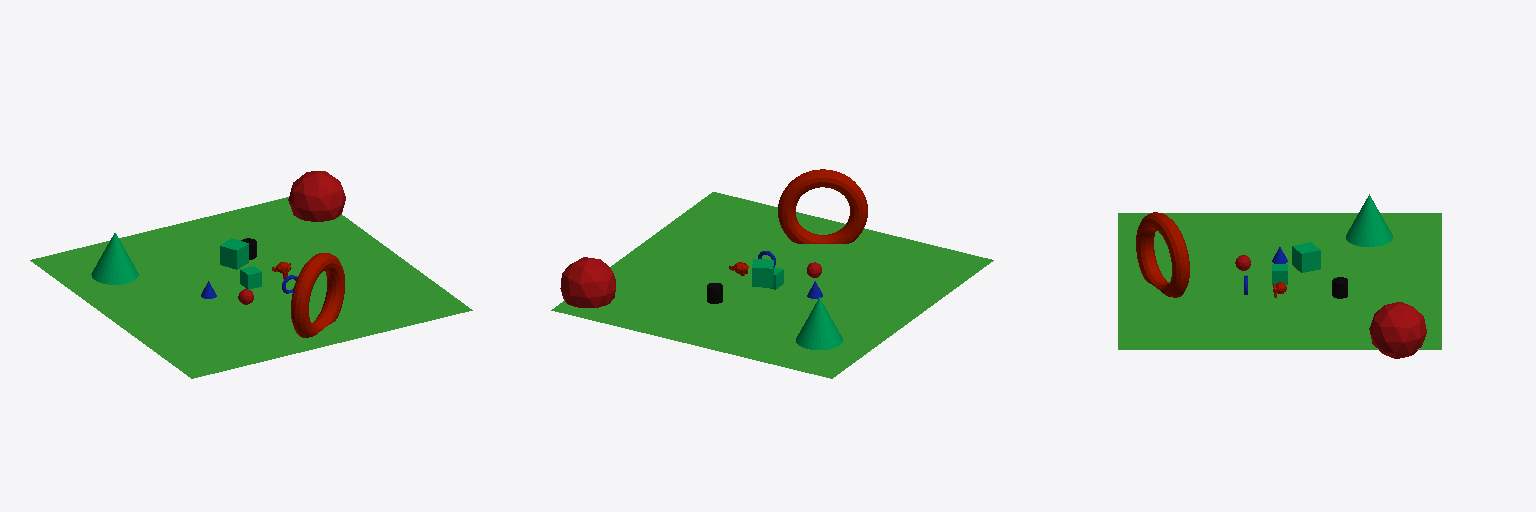
3 views of the same model, side by side, from view 1: azimuth 30°, elevation 25°; view 2: azimuth 150°, elevation 25°; view 3: azimuth 270°, elevation 25° (orthographic).
Parts seen in each view (by area): view 1: Grid, Torus.001, Icosphere.001_Icosphere, Cone.001, Cube.001_Cube; view 2: Grid, Torus.001, Icosphere.001_Icosphere, Cone.001, Cube.001_Cube; view 3: Grid, Torus.001, Icosphere.001_Icosphere, Cone.001, Cube.001_Cube.
Part boxes in pixels (left/top/right/bottom): Grid: left=30, top=197, right=472, bottom=378; Torus.001: left=291, top=253, right=344, bottom=337; Icosphere.001_Icosphere: left=288, top=171, right=345, bottom=221; Cone.001: left=91, top=233, right=138, bottom=284; Cube.001_Cube: left=220, top=238, right=248, bottom=269; Grid: left=551, top=192, right=993, bottom=378; Torus.001: left=778, top=169, right=867, bottom=243; Icosphere.001_Icosphere: left=560, top=257, right=615, bottom=307; Cone.001: left=796, top=297, right=842, bottom=349; Cube.001_Cube: left=752, top=259, right=773, bottom=287; Grid: left=1118, top=213, right=1441, bottom=349; Torus.001: left=1136, top=212, right=1189, bottom=297; Icosphere.001_Icosphere: left=1369, top=302, right=1426, bottom=358; Cone.001: left=1346, top=194, right=1392, bottom=246; Cube.001_Cube: left=1292, top=242, right=1320, bottom=272.
Size of the model in its own units: 41.33 by 11.47 by 40.